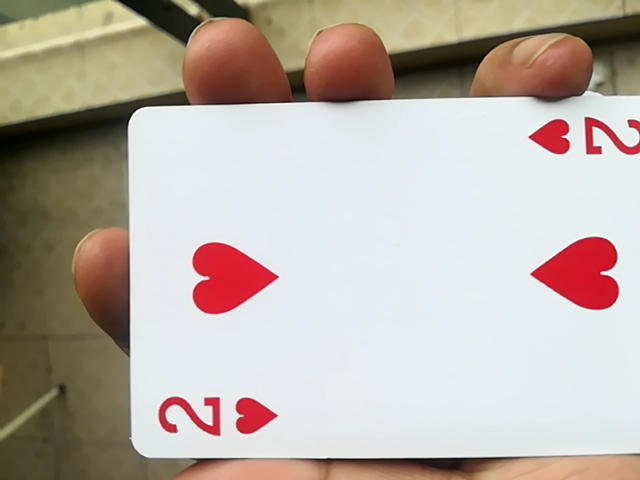hx 2: (115, 103, 637, 475)
